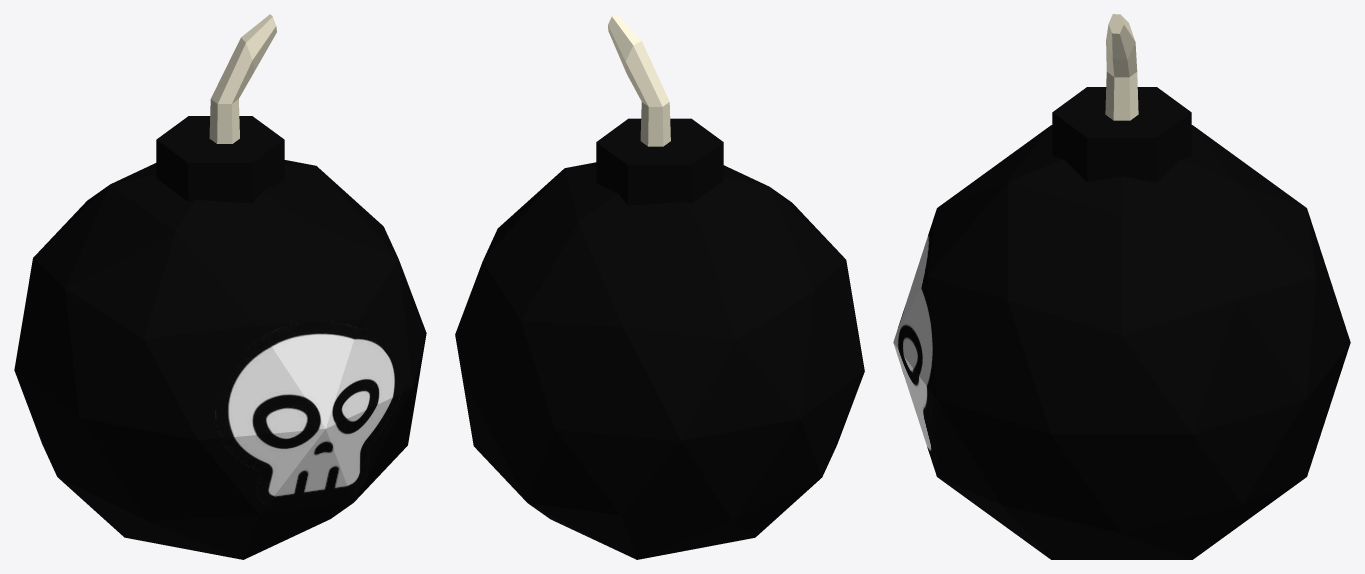
Rendered from bomb.fbx.
3 views of the same model, side by side, from view 1: azimuth 30°, elevation 25°; view 2: azimuth 150°, elevation 25°; view 3: azimuth 270°, elevation 25° (orthographic). The views are drawn at different scales.
Parts seen in each view (by area): view 1: Icosphere; view 2: Icosphere; view 3: Icosphere.
Boxes of the visible parts, left/top/right/bottom form: Icosphere: left=14, top=14, right=426, bottom=559; Icosphere: left=455, top=14, right=864, bottom=559; Icosphere: left=893, top=14, right=1350, bottom=559.
Size of the model in its own units: 190 by 271 by 200.
